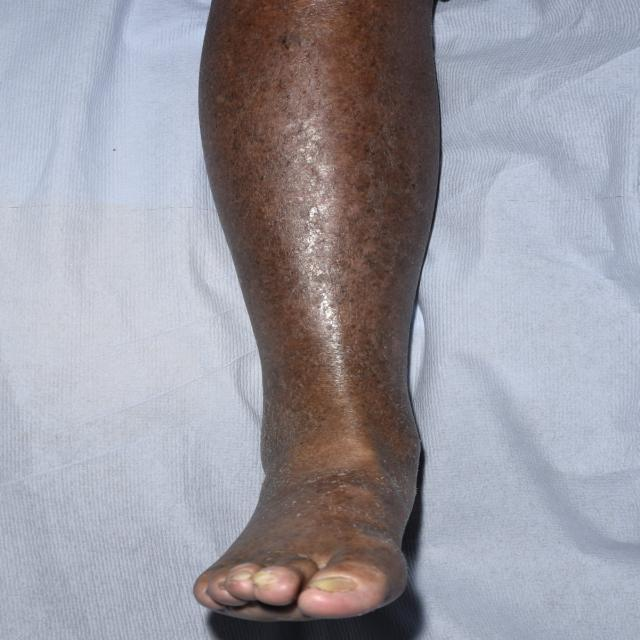wound: (192, 1, 444, 540)
